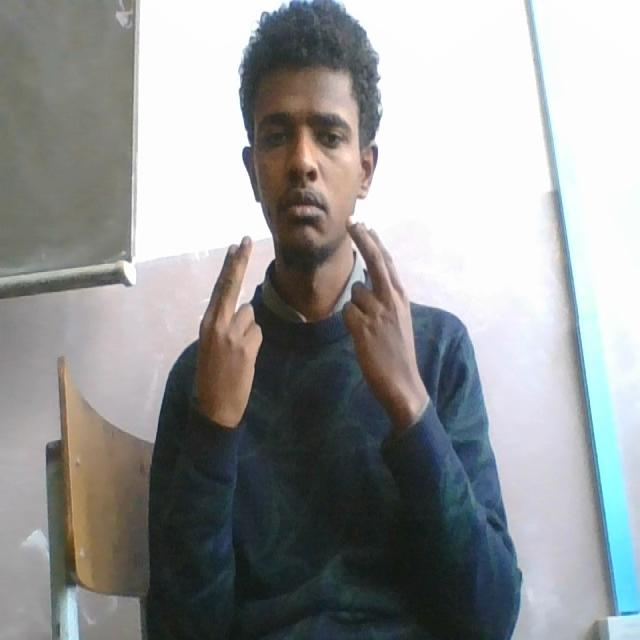zena: (186, 206, 430, 411)
